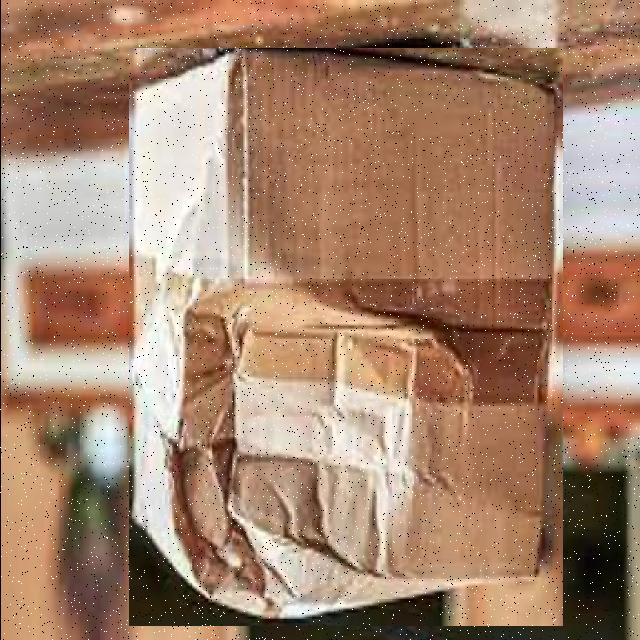defect: (128, 48, 562, 626)
